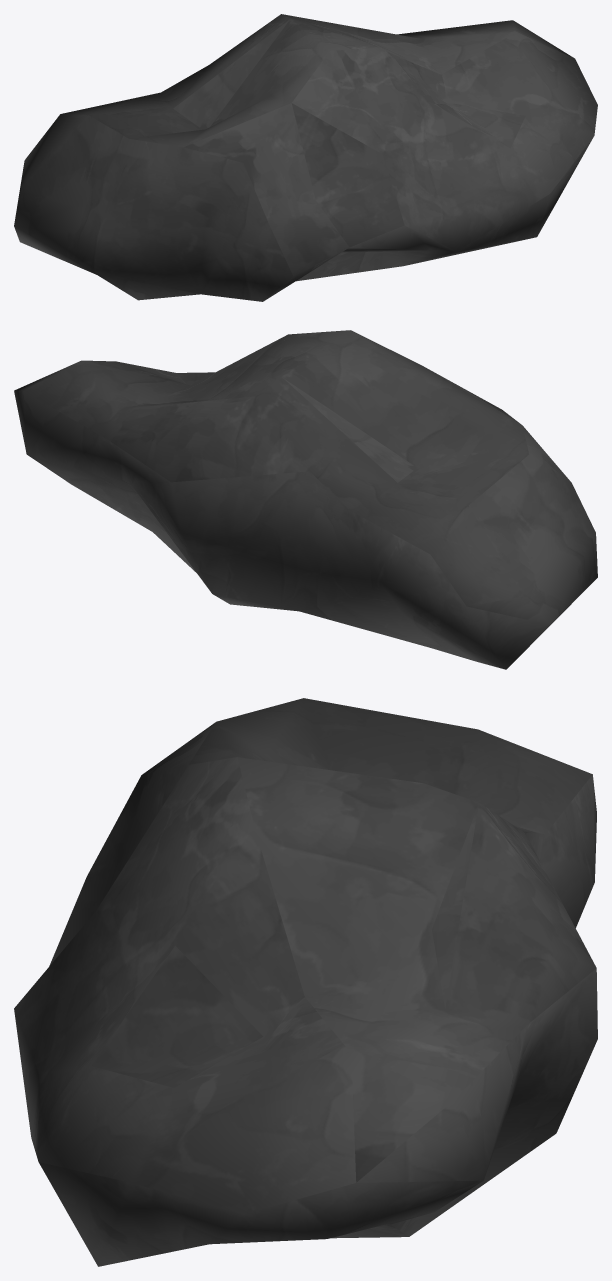
The model's file is rock3.fbx.
3 renders of one model, top to bottom at view 1: azimuth 30°, elevation 25°; view 2: azimuth 150°, elevation 25°; view 3: azimuth 270°, elevation 25°, orthographic. The views are drawn at different scales.
Visible parts, largest first — view 1: rock3; view 2: rock3; view 3: rock3.
Part boxes in pixels (x1=…): rock3: x1=14, y1=14, x2=597, y2=301; rock3: x1=14, y1=330, x2=597, y2=669; rock3: x1=14, y1=698, x2=597, y2=1266.
Bounding box in the file's own units: 418 × 178 × 221.
